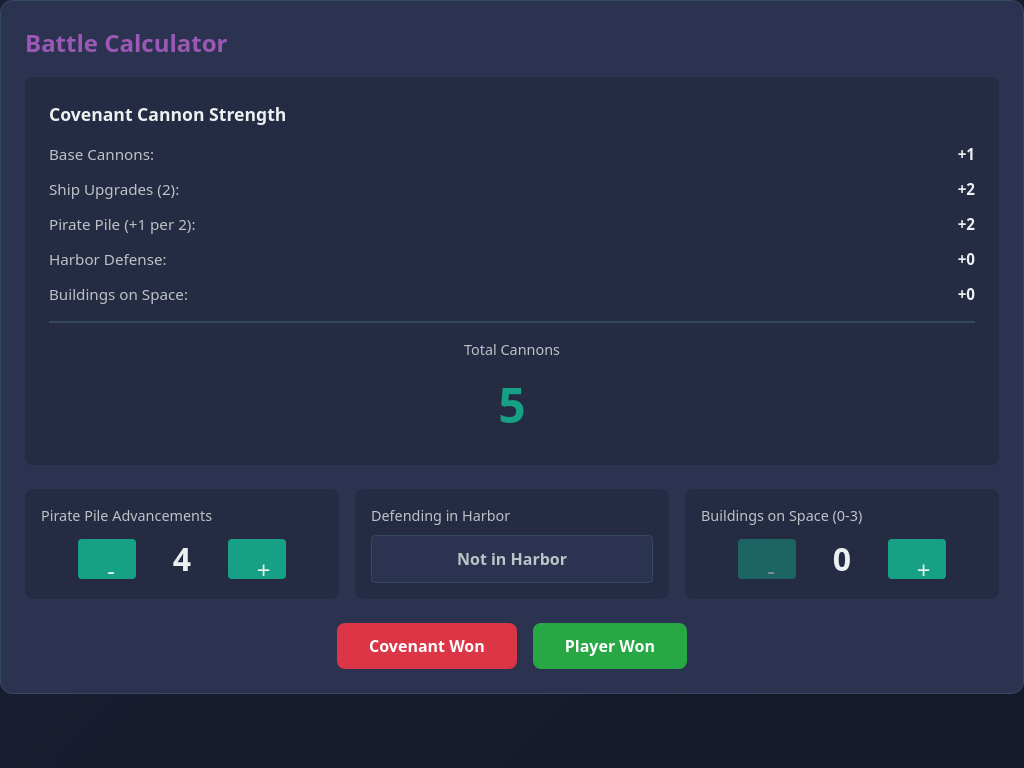
Scenario: BattleCalculator › Buildings on Space Input › increases buildings count when + button clicked
Click the button named "Increase buildings on space". click: (917, 559)
box: left=888, top=539, right=946, bottom=579
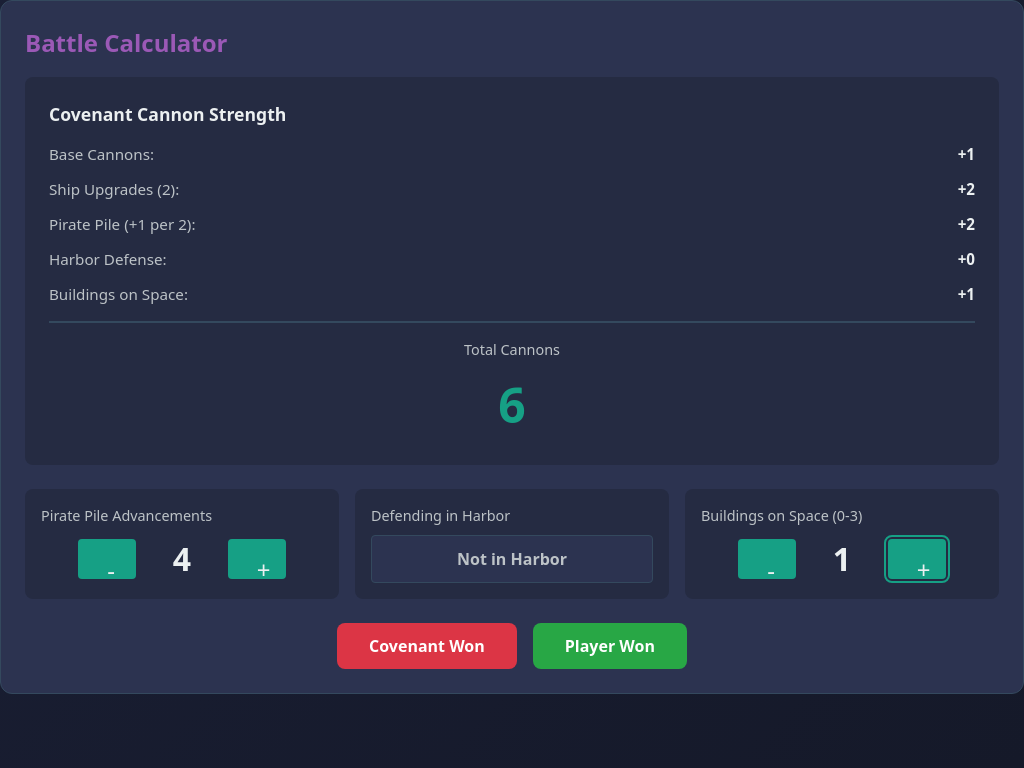
Expected: the text "Buildings on Space (0-3) - 1 +" is shown, left=685, top=489, right=999, bottom=599
